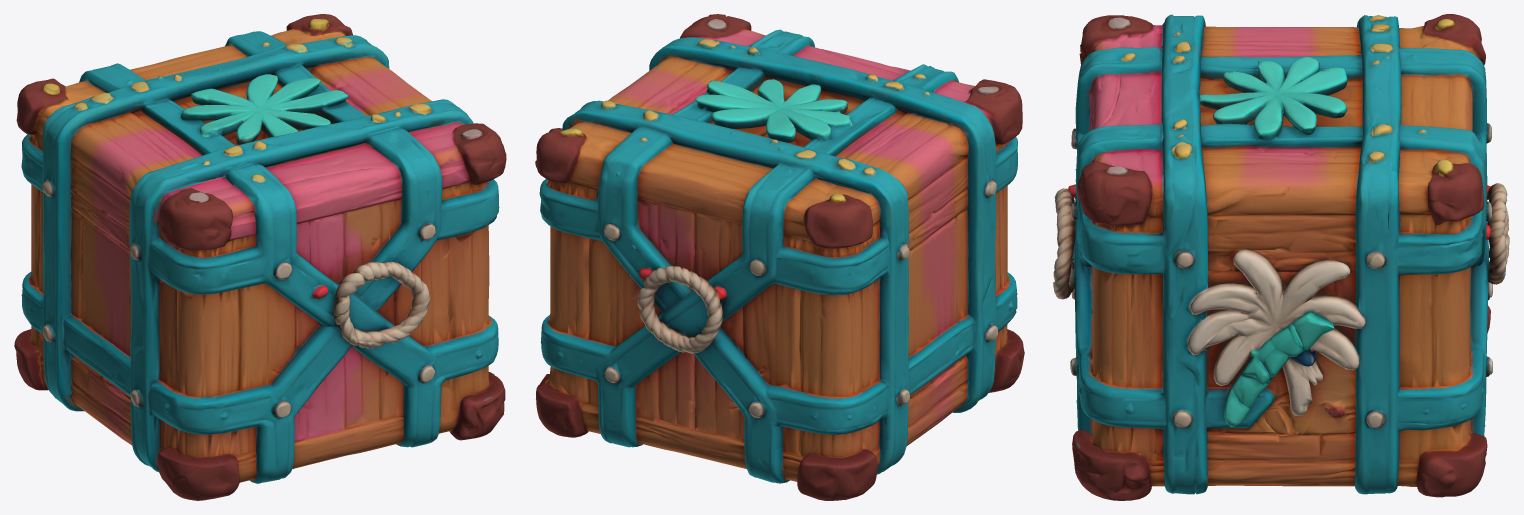
Rendered from crate.glb.
The picture shows the model from 3 angles, left to right: view 1: azimuth 30°, elevation 25°; view 2: azimuth 150°, elevation 25°; view 3: azimuth 270°, elevation 25°; orthographic projection. The views are drawn at different scales.
Visible parts, largest first — view 1: tripo_node_b1bc59dc-49a8-48b3-9e83-aa244b4539e4; view 2: tripo_node_b1bc59dc-49a8-48b3-9e83-aa244b4539e4; view 3: tripo_node_b1bc59dc-49a8-48b3-9e83-aa244b4539e4.
Part boxes in pixels (x1,y1,x2,y2): tripo_node_b1bc59dc-49a8-48b3-9e83-aa244b4539e4: [14, 14, 506, 500]; tripo_node_b1bc59dc-49a8-48b3-9e83-aa244b4539e4: [535, 14, 1024, 500]; tripo_node_b1bc59dc-49a8-48b3-9e83-aa244b4539e4: [1053, 14, 1509, 500].
Size of the model in its own units: 0.9591 by 0.8 by 0.9702.
1 material, 1 textured.
